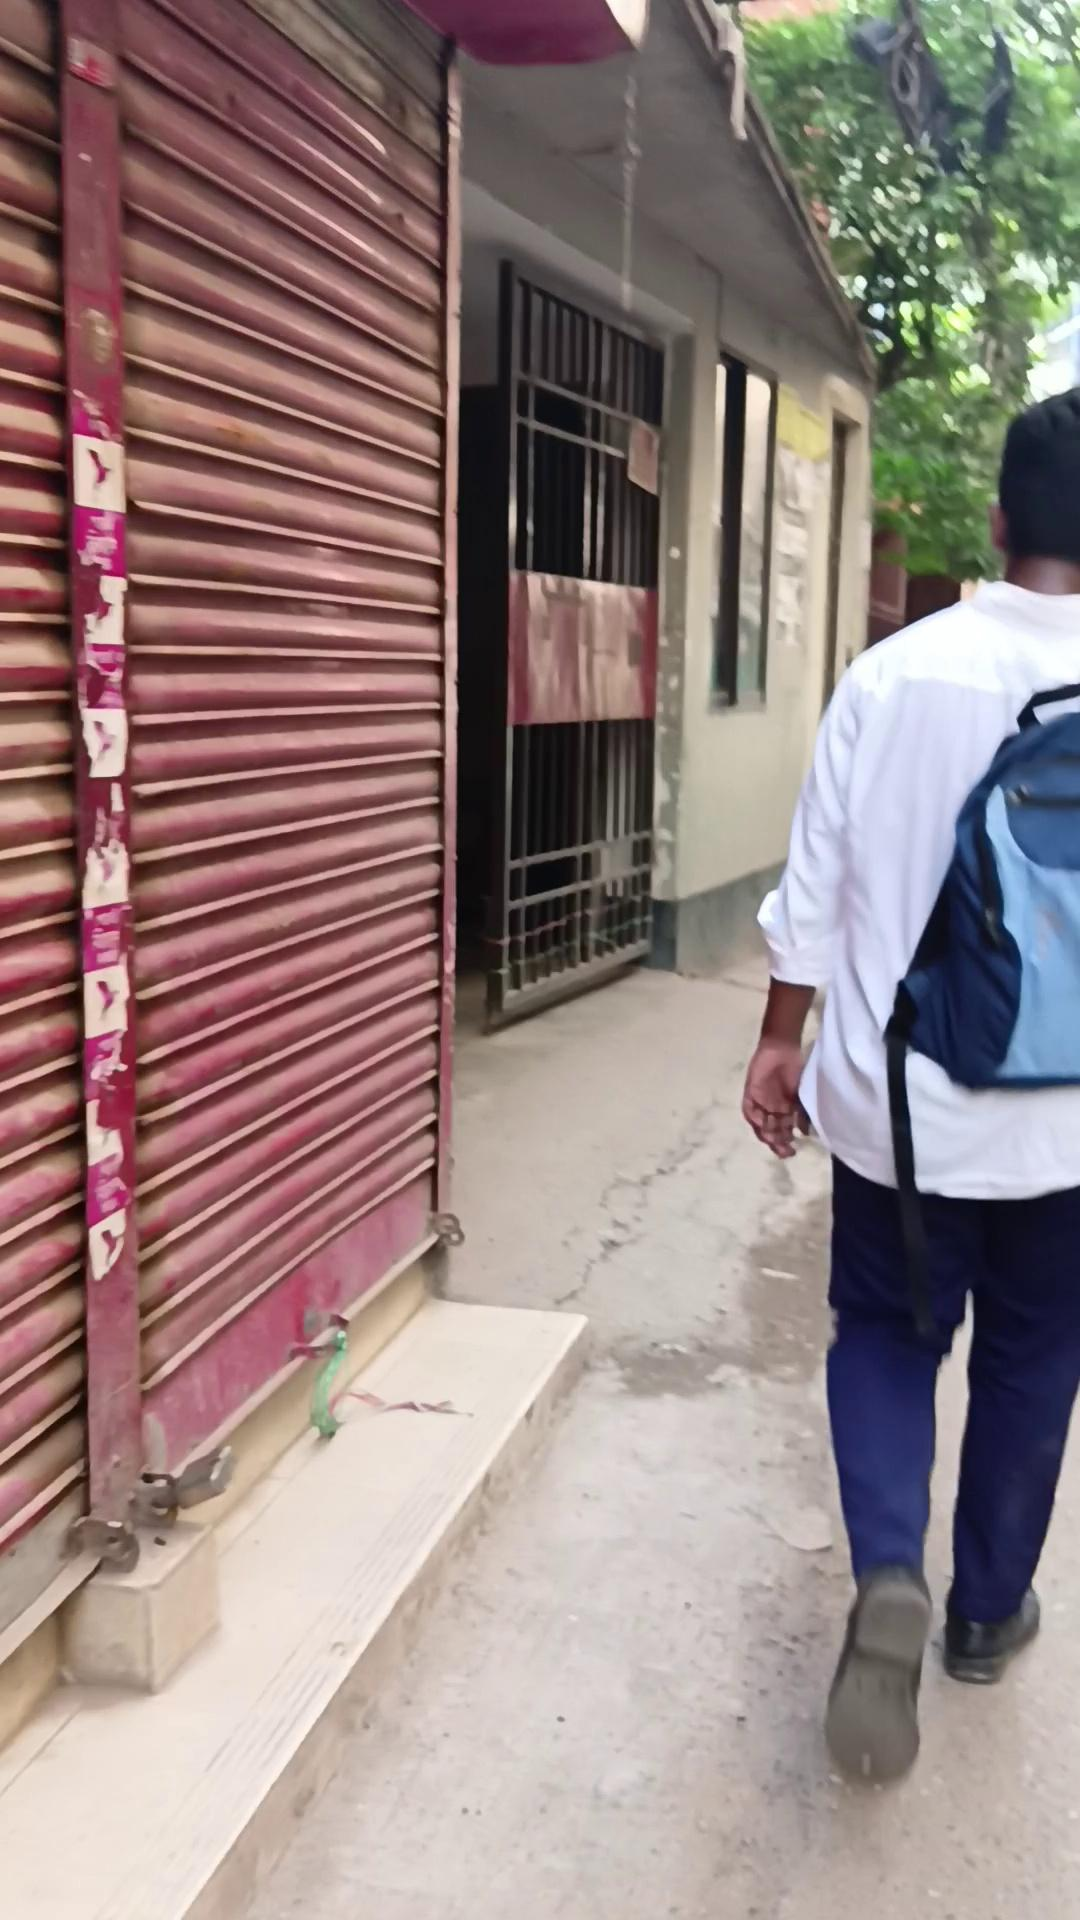Crosswalk: (3, 1278, 589, 1916), (51, 1226, 448, 1693)
Muddy road: (740, 384, 1079, 1784)
Tree: (0, 0, 463, 1502)
